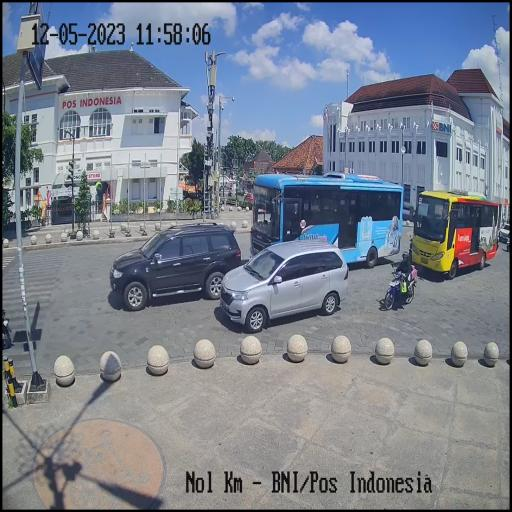mobil: (246, 170, 404, 276), (216, 239, 349, 329), (105, 223, 242, 309), (412, 182, 504, 276)
motor: (382, 259, 417, 316)
